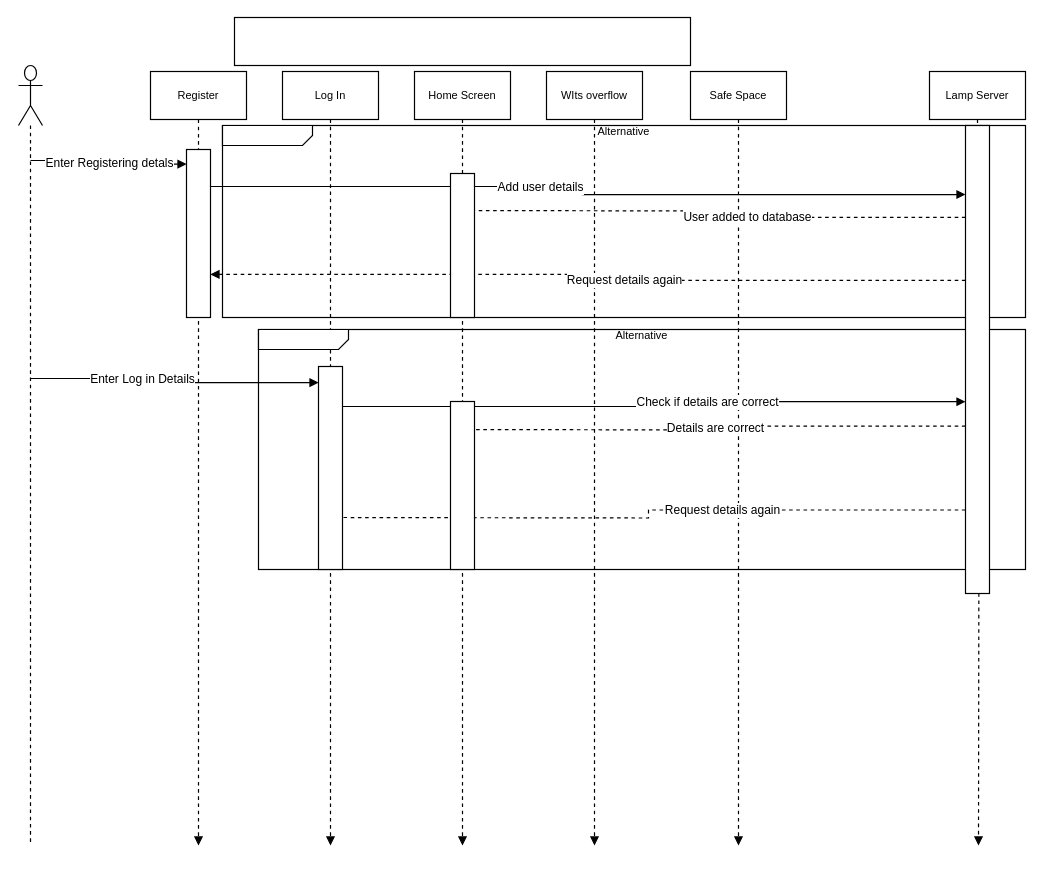
Image size: 1044x872. Some labels were removed from this diagram. The box of each missing label's shape, as (x1, y1, x2, y2) in pixels:
Actor: (17, 64, 43, 126)
SQUENCE DIAGRAM FOR THE WITS APP: (233, 16, 691, 66)
